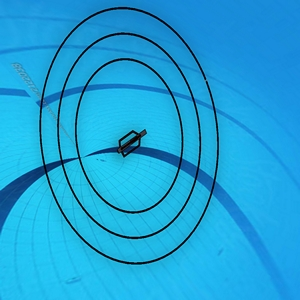circle: (26, 3, 238, 271)
submarine: (116, 128, 151, 156)
